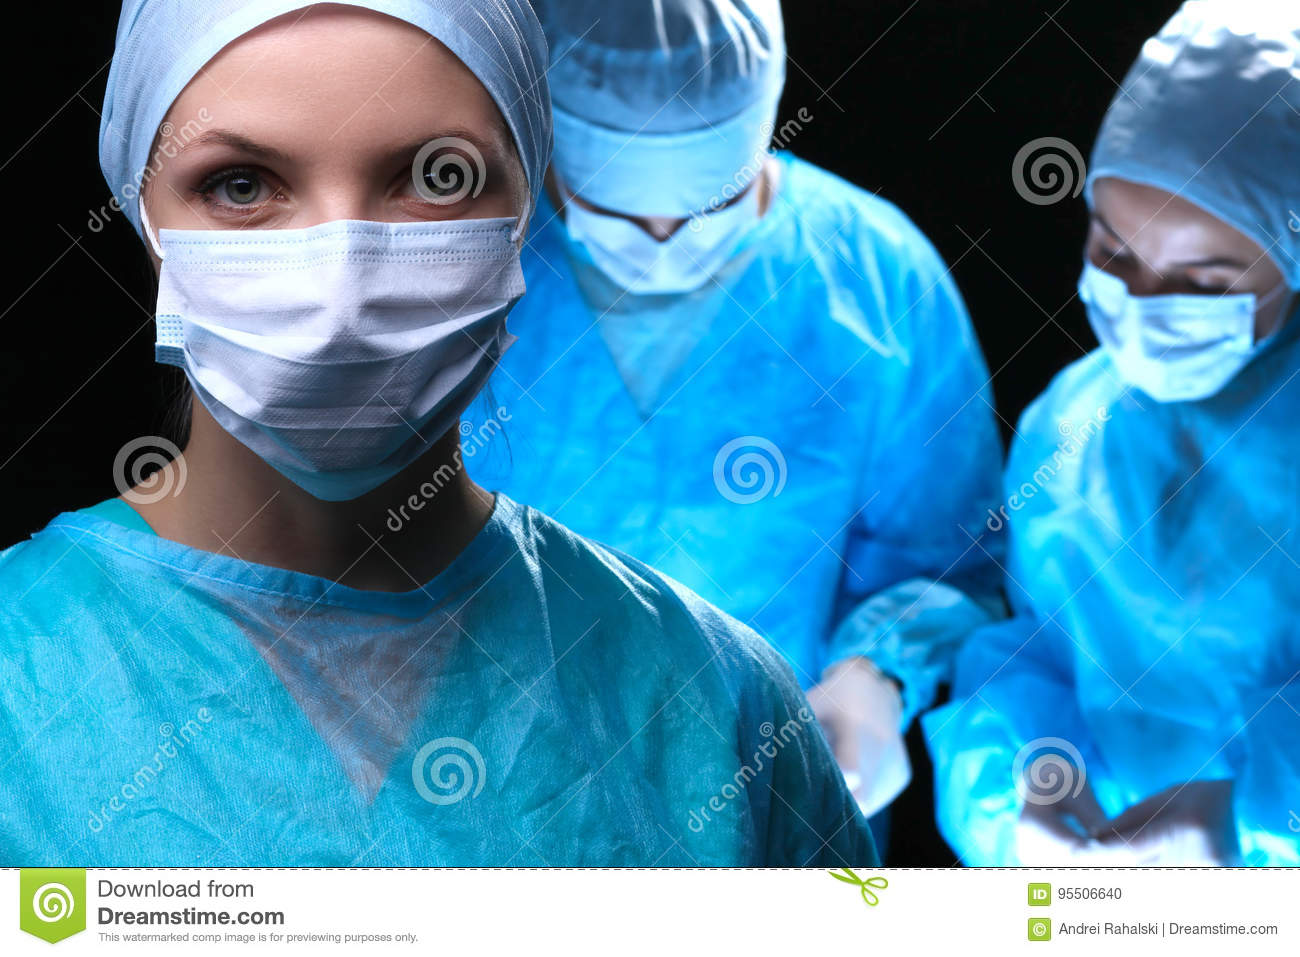mask: (151, 213, 507, 492)
